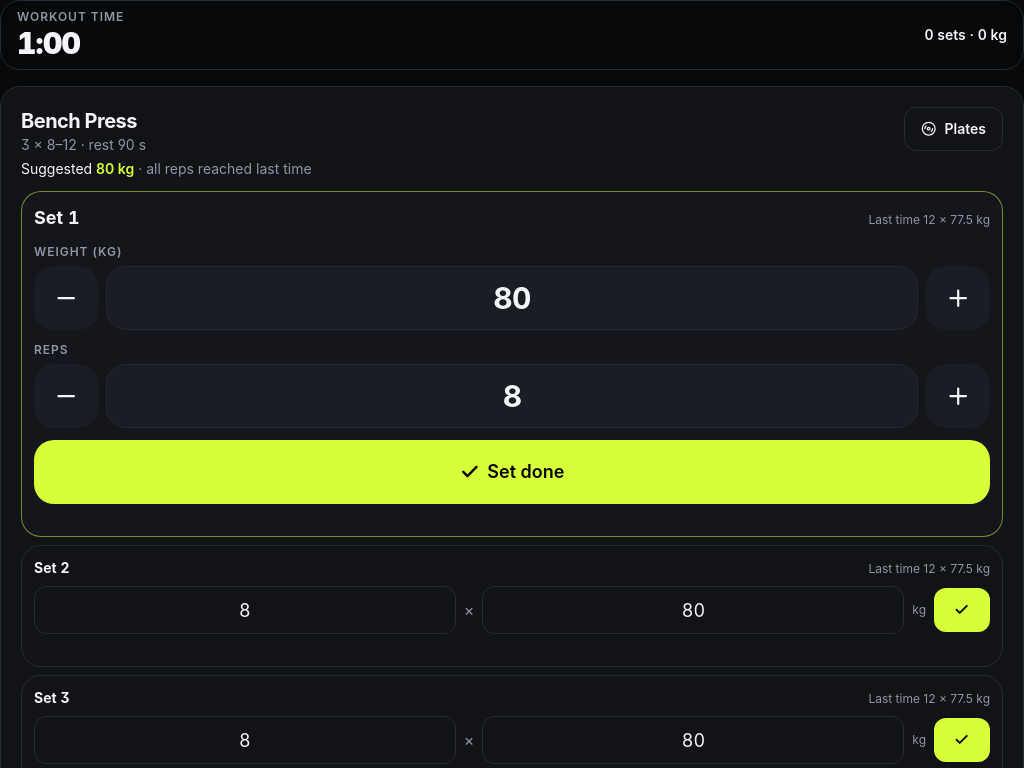
Test: rest timer › a new set opens a hidden timer full screen again
The width and height of the screenshot is (1024, 768).
Click the button with aria-label "Set done, Bench Press set 1" at (512, 472), box [34,440,990,504]
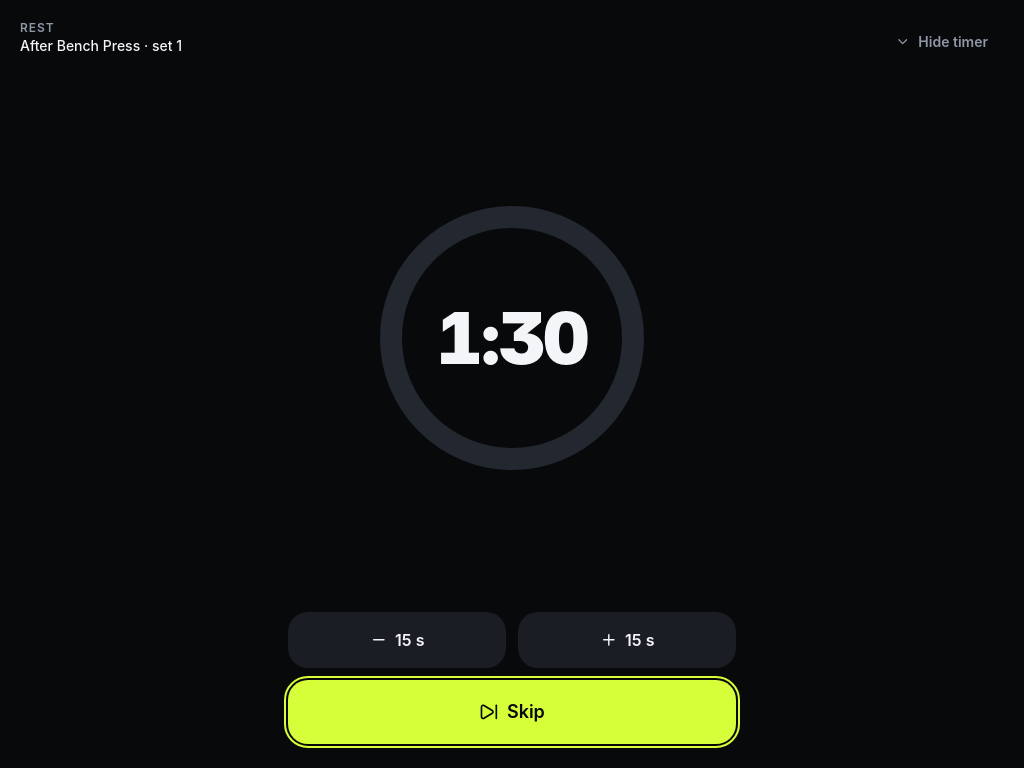
Click the button "Hide timer" at (941, 42), box [879,20,1004,64]
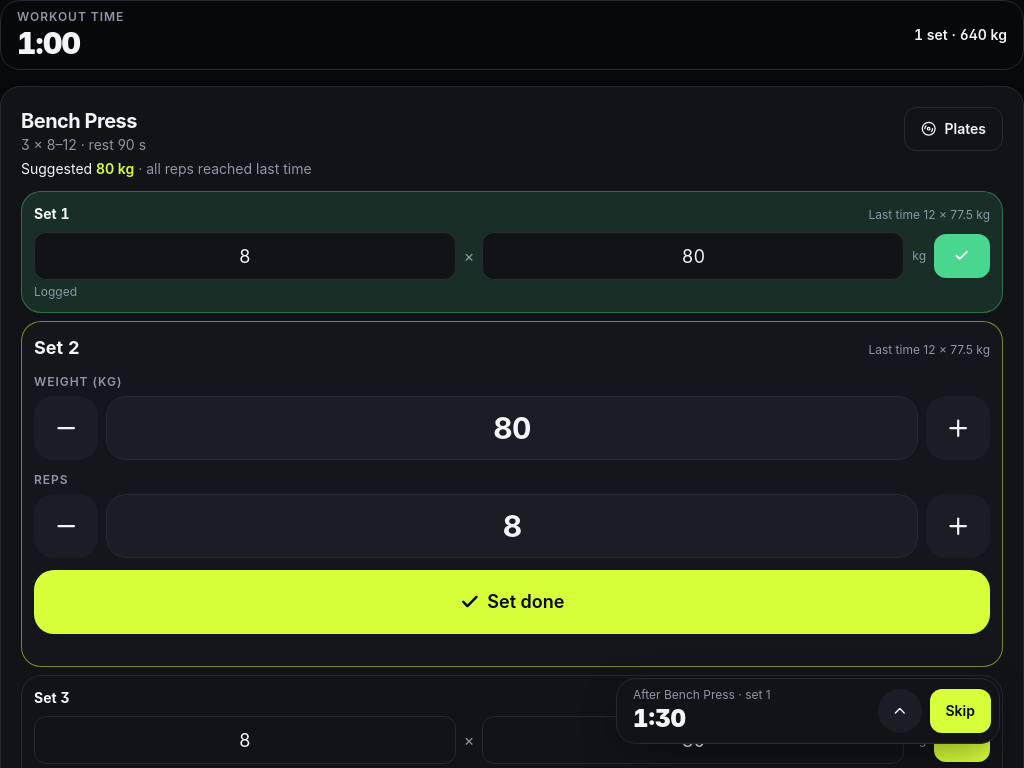
Click the button with aria-label "Set done, Bench Press set 2" at (512, 602), box [34,570,990,634]
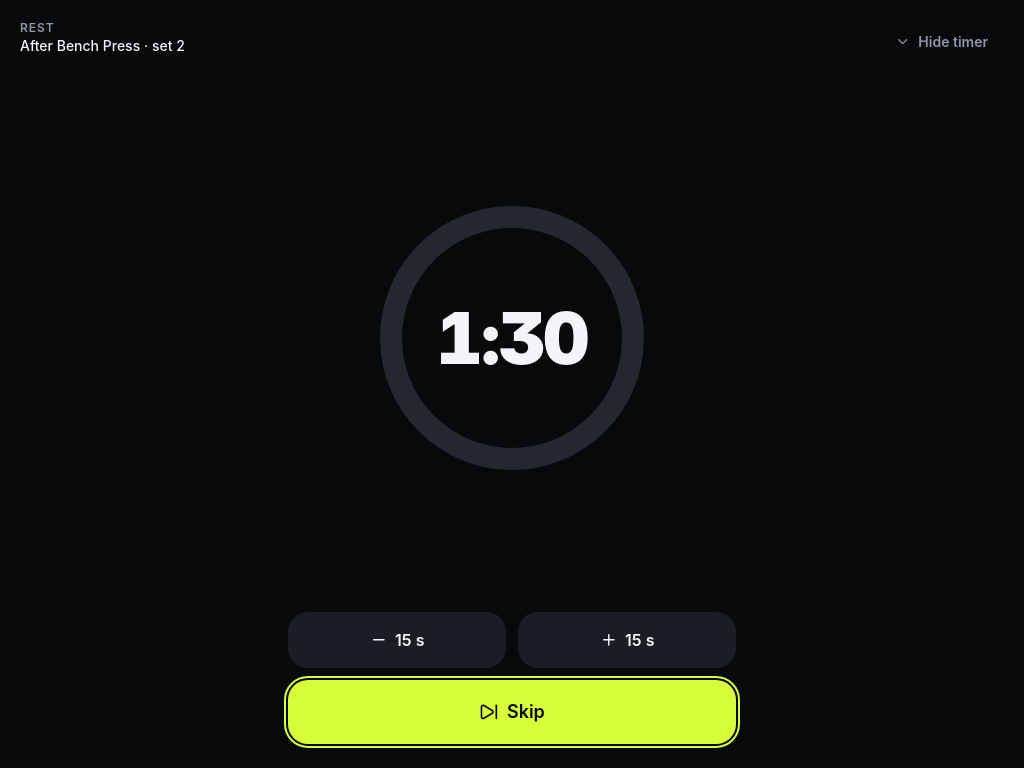
Result: the dialog "Rest" shows "After Bench Press · set 2" at [20,37,185,54]
